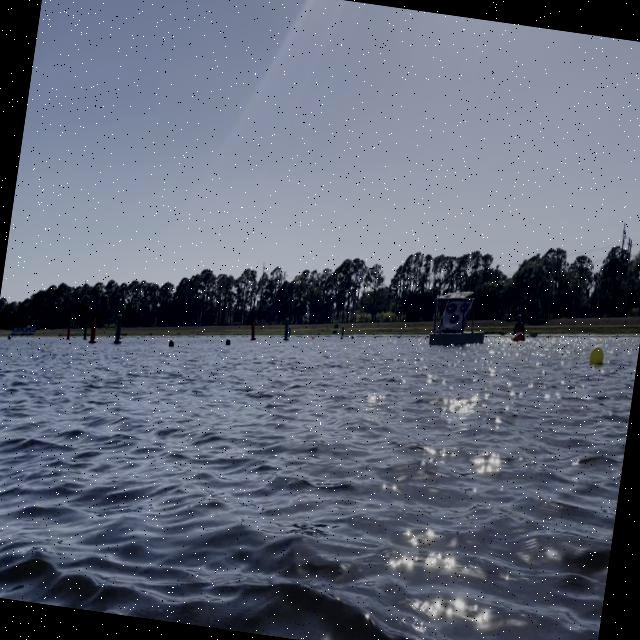buoy: (588, 342, 606, 370), (168, 338, 175, 348), (226, 336, 232, 346)
